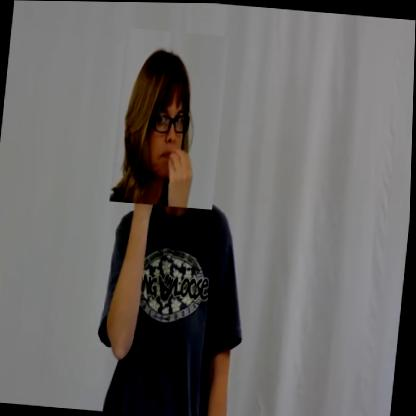Food: (111, 27, 230, 210)
